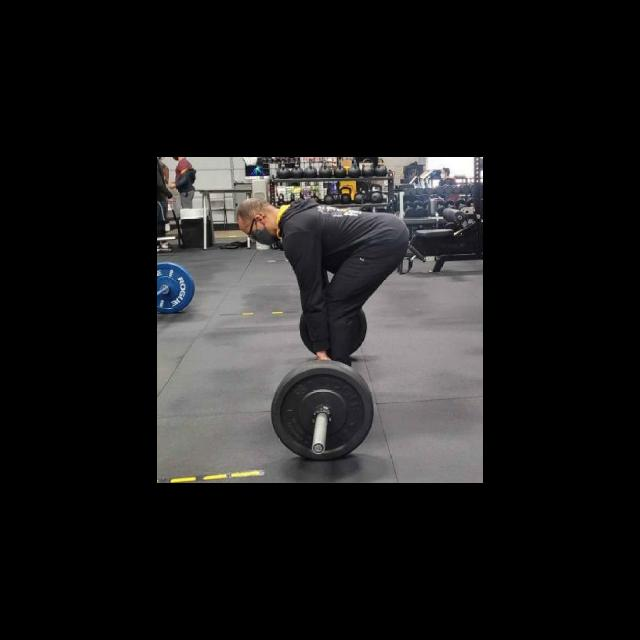barbell: (268, 362, 378, 466)
